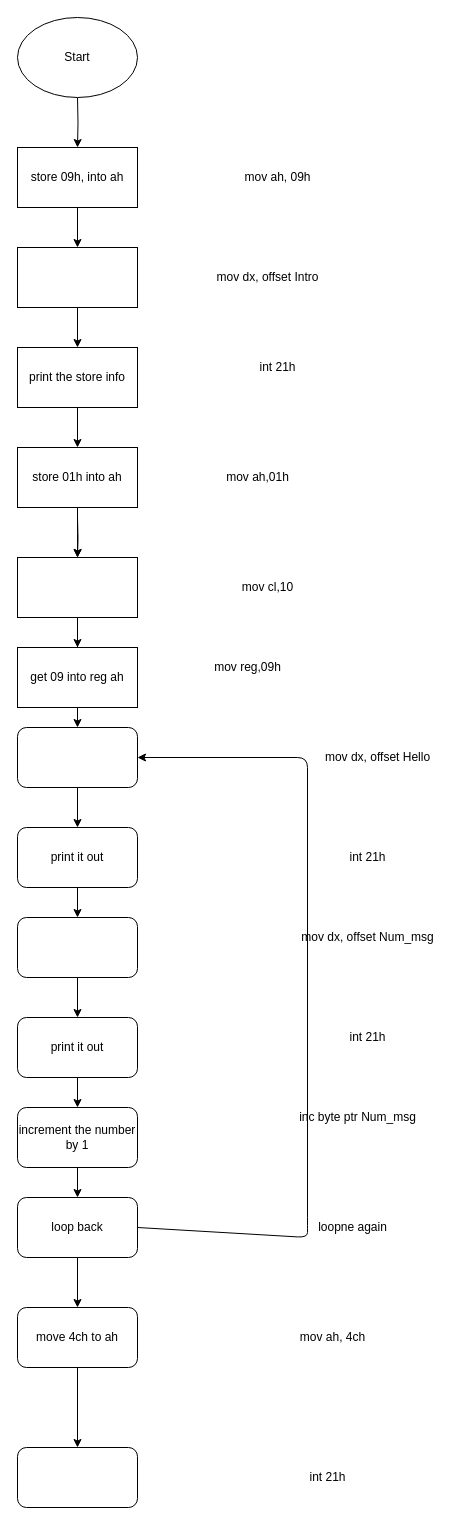
Some shapes in this 460 by 1525 pixel diagram are drawn without their labels. The shapes that lost their labels are listed below. From the top down, each one's centre as x and y in pixels, then its label:
At pixel 77 277: "get the quote and store it into dx".
At pixel 77 587: "get 10 into cl to loop 10 x".
At pixel 77 757: "move quote into mem".
At pixel 77 947: "move num into mem".
At pixel 77 1477: "End".
